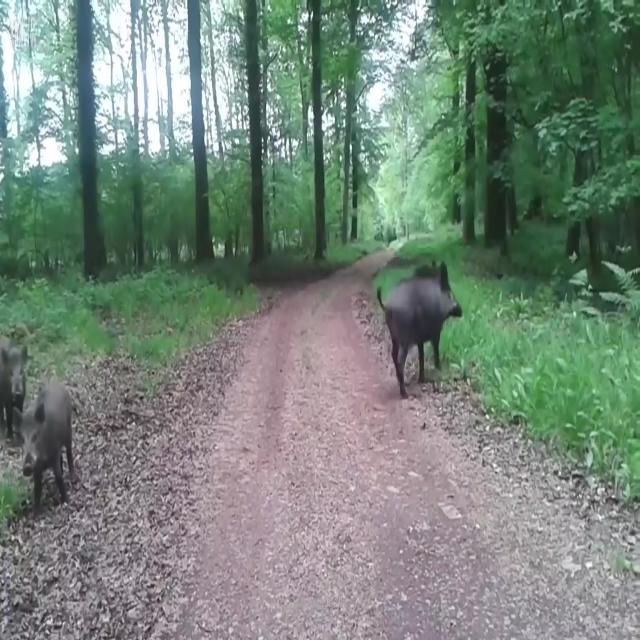pig: (347, 242, 498, 377), (28, 338, 102, 553), (0, 293, 38, 440)
